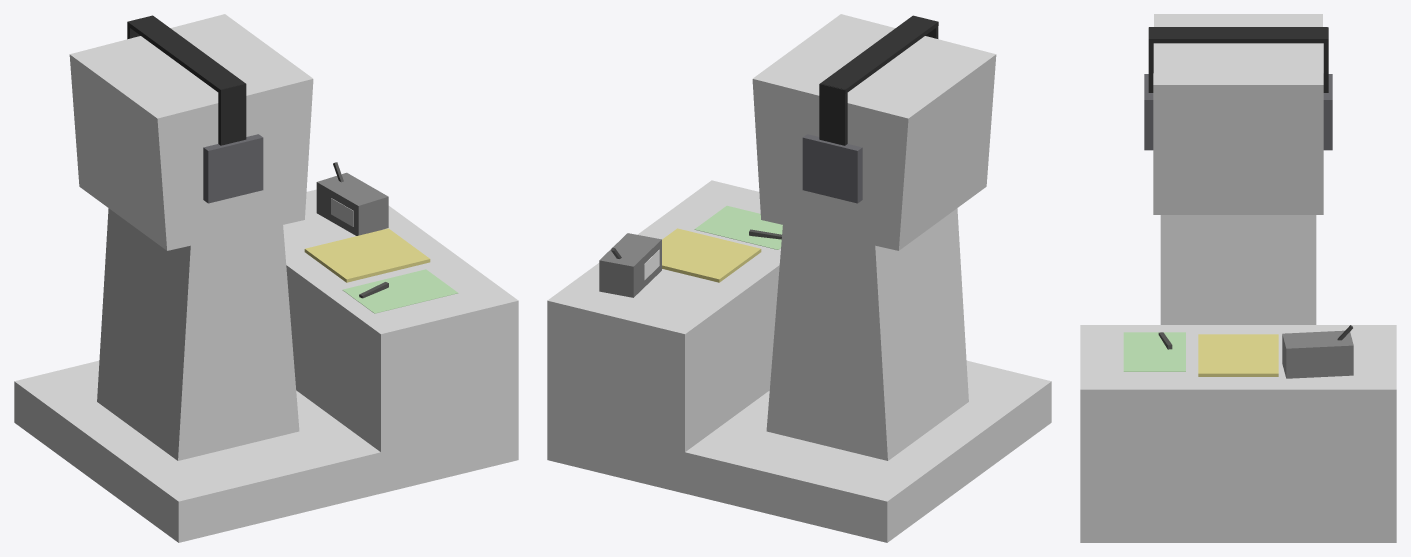
Rendered from Receiver001.fbx.
3 views of the same model, side by side, from view 1: azimuth 30°, elevation 25°; view 2: azimuth 150°, elevation 25°; view 3: azimuth 270°, elevation 25° (orthographic). The views are drawn at different scales.
Visible parts, largest first — view 1: Cube.006, Cube.002, Cube.001, Cube, Cube.003, Cube.013, Cube.005, Cube.012, Cube.004, Cube.010; view 2: Cube.006, Cube.002, Cube.001, Cube, Cube.003, Cube.013, Cube.005, Cube.012, Cube.004, Cube.009; view 3: Cube.006, Cube.001, Cube.002, Cube.003, Cube.005, Cube.012, Cube.004, Cube.013.
Boxes of the visible parts, x1,y1,x2,y2 form: Cube.006: [283, 189, 518, 493]; Cube.002: [97, 208, 299, 460]; Cube.001: [69, 14, 313, 250]; Cube: [14, 360, 383, 542]; Cube.003: [304, 228, 430, 282]; Cube.013: [203, 134, 263, 203]; Cube.005: [316, 172, 388, 235]; Cube.012: [127, 15, 245, 93]; Cube.004: [342, 269, 458, 313]; Cube.010: [218, 84, 246, 145]; Cube.006: [547, 180, 780, 492]; Cube.002: [766, 208, 968, 460]; Cube.001: [752, 14, 996, 250]; Cube: [682, 360, 1051, 542]; Cube.003: [662, 228, 761, 282]; Cube.013: [802, 134, 862, 203]; Cube.005: [599, 233, 661, 297]; Cube.012: [820, 15, 938, 93]; Cube.004: [694, 205, 782, 249]; Cube.009: [819, 84, 847, 145]; Cube.006: [1080, 325, 1396, 542]; Cube.001: [1153, 14, 1323, 214]; Cube.002: [1160, 215, 1316, 324]; Cube.003: [1198, 334, 1278, 376]; Cube.005: [1282, 330, 1353, 378]; Cube.012: [1149, 27, 1327, 43]; Cube.004: [1123, 332, 1185, 371]; Cube.013: [1144, 74, 1332, 150].
Size of the model in its own units: 239 by 274 by 200.
